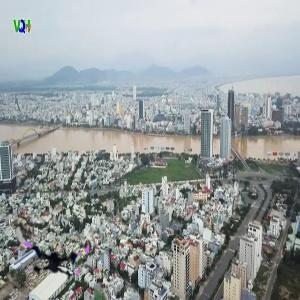drone: (18, 218, 95, 295)
